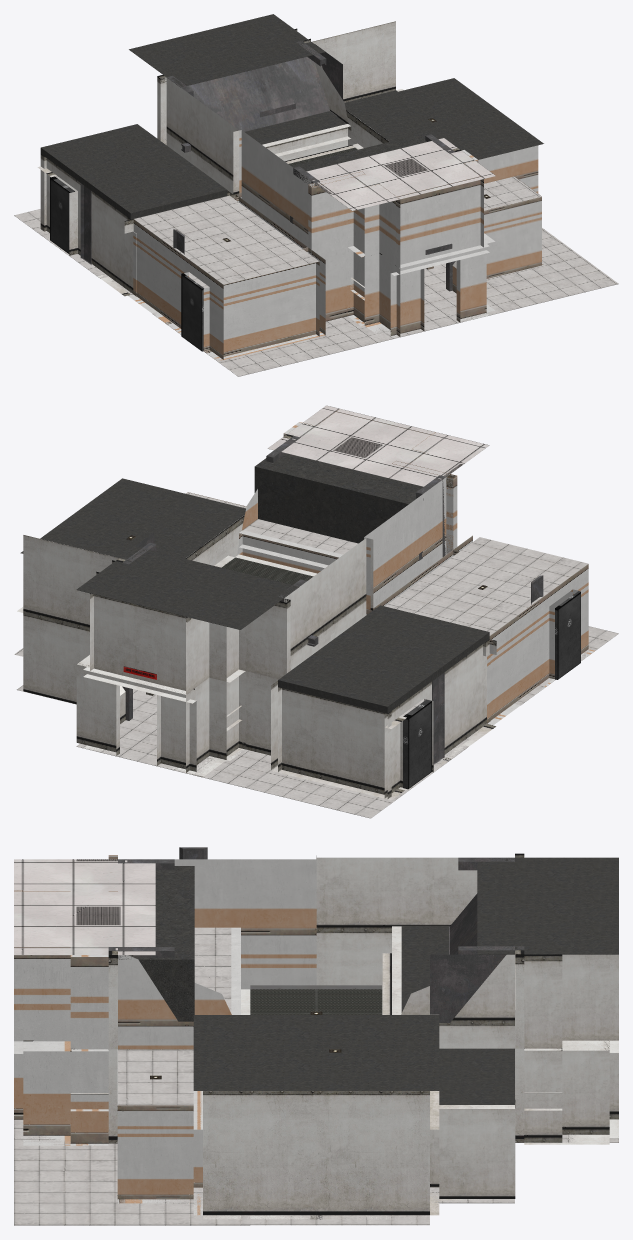
File: CK_RZ_LCZ.glb
3 renders of one model, top to bottom at view 1: azimuth 30°, elevation 25°; view 2: azimuth 150°, elevation 25°; view 3: azimuth 270°, elevation 25°, orthographic. The views are drawn at different scales.
Parts seen in each view (by area): view 1: CK_RZ_LCZ.001; view 2: CK_RZ_LCZ.001; view 3: CK_RZ_LCZ.001.
Boxes of the visible parts, x1,y1,x2,y2 form: CK_RZ_LCZ.001: (14,14,618,376); CK_RZ_LCZ.001: (14,405,618,818); CK_RZ_LCZ.001: (14,847,618,1225).
Size of the model in its own units: 20.48 by 7.05 by 20.48.
17 materials, 17 textured.
